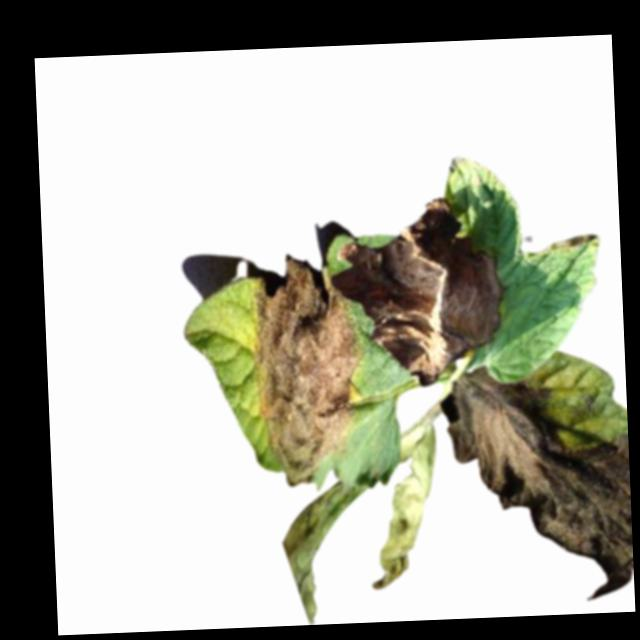Late_blight: (444, 362, 634, 606), (336, 192, 510, 392), (252, 253, 369, 489), (368, 429, 442, 589), (280, 488, 356, 626)
